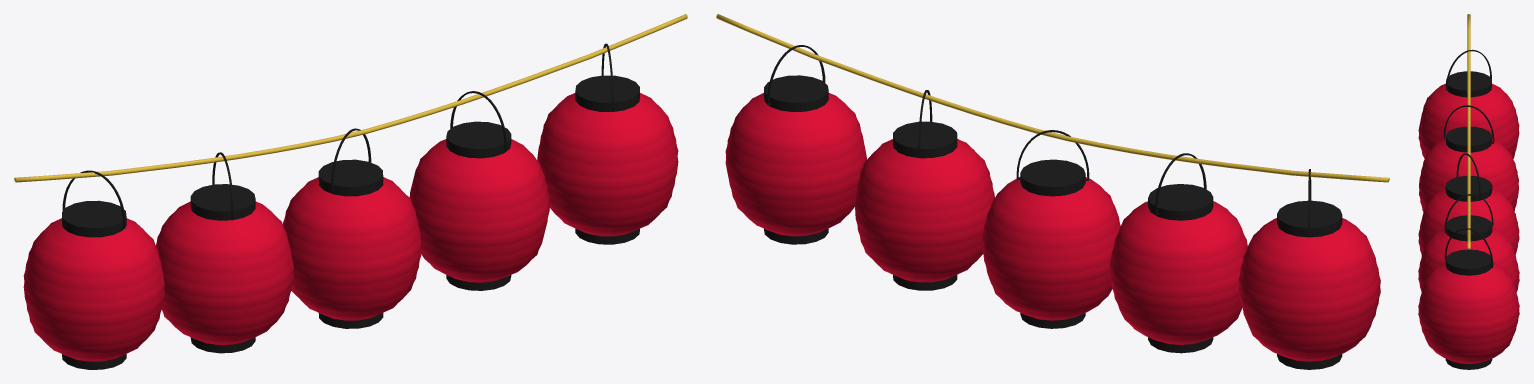
File: lanternDangleVer.obj
The picture shows the model from 3 angles, left to right: view 1: azimuth 30°, elevation 25°; view 2: azimuth 150°, elevation 25°; view 3: azimuth 270°, elevation 25°; orthographic projection. The views are drawn at different scales.
Visible parts, largest first — view 1: 円柱; view 2: 円柱; view 3: 円柱.
Boxes of the visible parts, x1,y1,x2,y2 form: 円柱: (14, 14, 687, 369); 円柱: (716, 14, 1389, 369); 円柱: (1418, 14, 1519, 369).
Size of the model in its own units: 11.79 by 3.8 by 2.17.
Materials: 11 (11 with a texture image).
